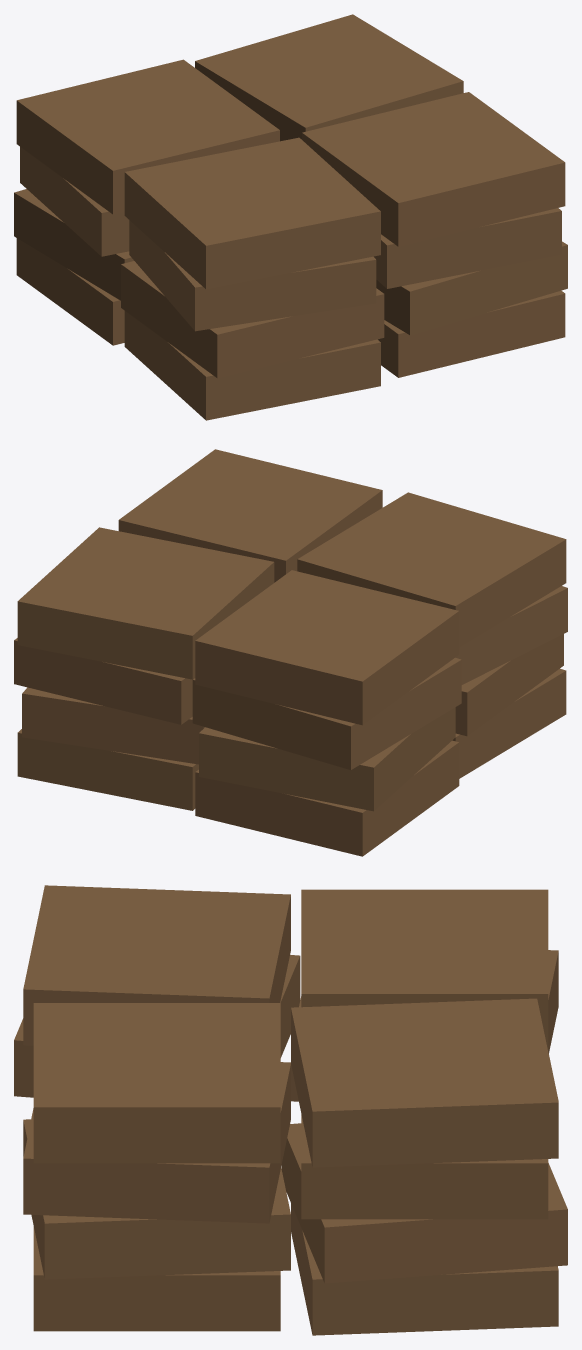
File: boxes_flat.fbx
3 renders of one model, top to bottom at view 1: azimuth 30°, elevation 25°; view 2: azimuth 150°, elevation 25°; view 3: azimuth 270°, elevation 25°, orthographic. The views are drawn at different scales.
Visible parts, largest first — view 1: boxes_flat; view 2: boxes_flat; view 3: boxes_flat.
Boxes of the visible parts, left/top/right/bottom form: boxes_flat: left=14, top=14, right=567, bottom=420; boxes_flat: left=14, top=449, right=567, bottom=856; boxes_flat: left=14, top=885, right=567, bottom=1335.
Size of the model in its own units: 53.8 by 24 by 53.8.
